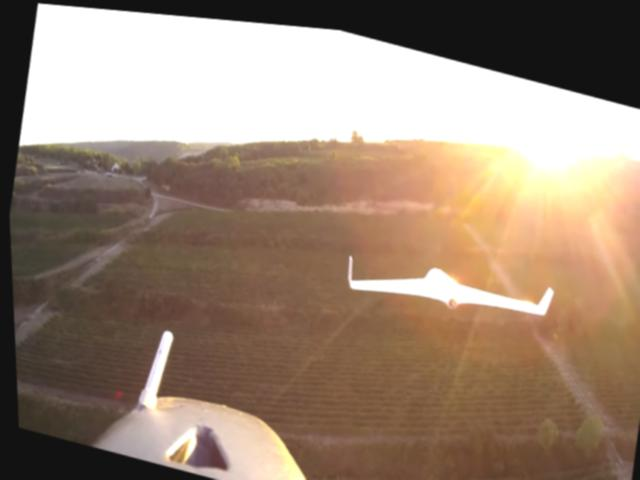plane: (340, 224, 553, 333)
